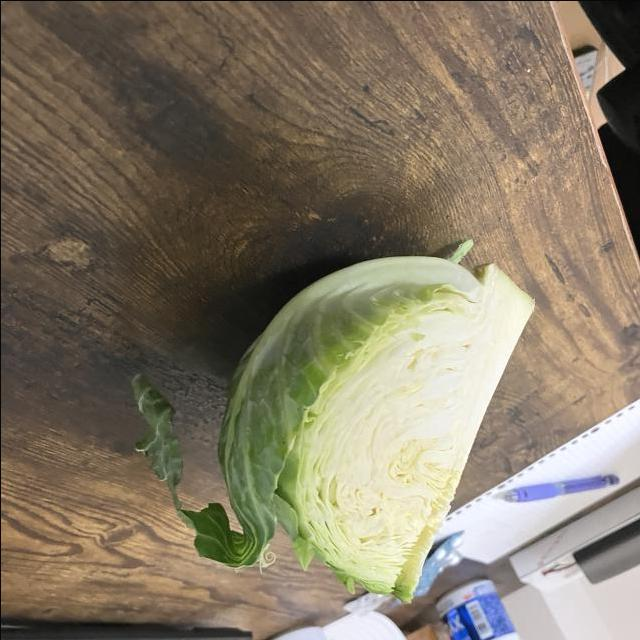cabbage: (125, 237, 541, 609)
